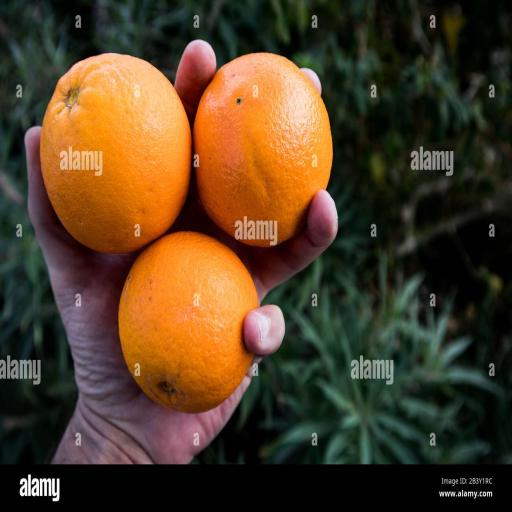orange: (41, 54, 191, 252), (194, 54, 332, 246), (119, 232, 257, 412)
